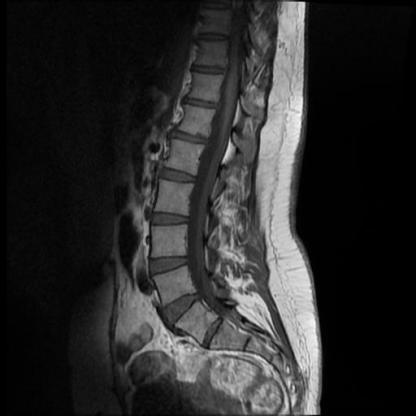Annular Disc Relaxationrotation: (159, 293, 207, 323), (193, 325, 232, 339)
Degenerative Disc Diseaserotation: (159, 293, 207, 323), (159, 167, 200, 186), (193, 326, 233, 340)
Disc Bulgerotation: (159, 167, 200, 186)
